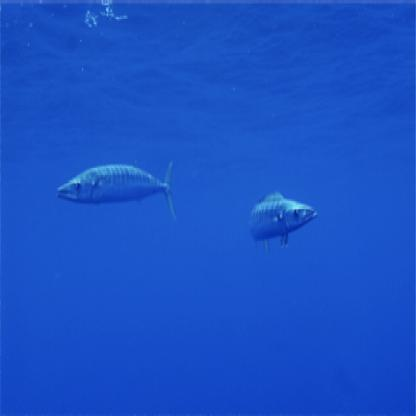tuna: (51, 152, 180, 223), (249, 187, 323, 254)
